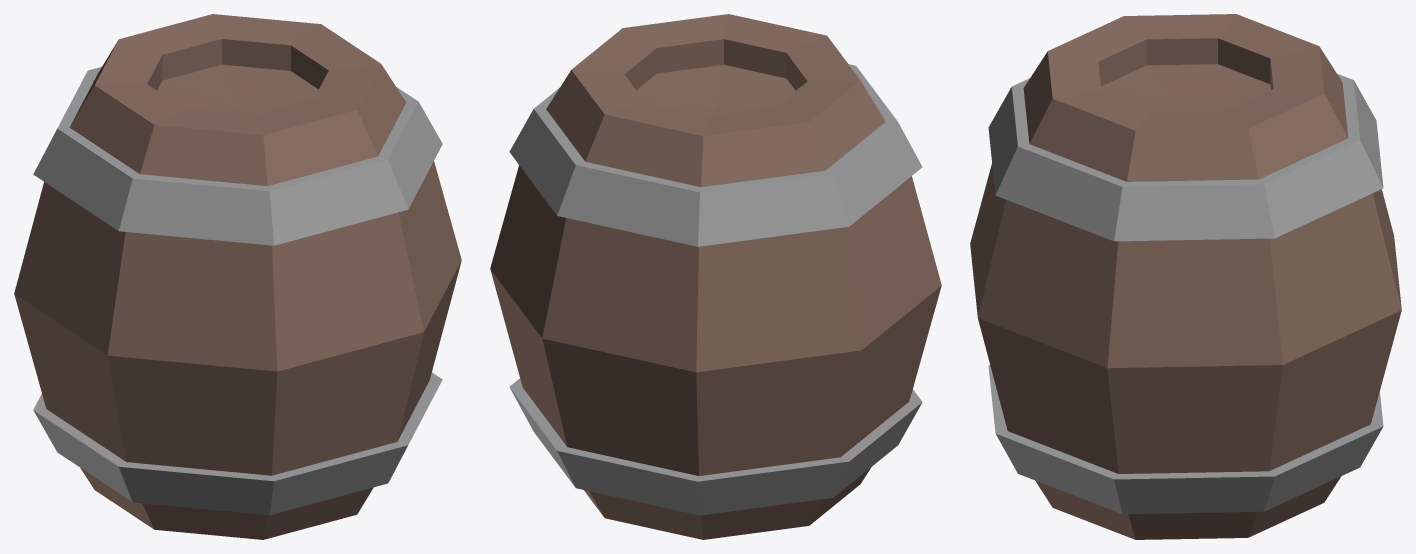
Rendered from barrel.glb.
3 views of the same model, side by side, from view 1: azimuth 30°, elevation 25°; view 2: azimuth 150°, elevation 25°; view 3: azimuth 270°, elevation 25° (orthographic).
Parts seen in each view (by area): view 1: rock02_Mesh_007_Base_0.4578; view 2: rock02_Mesh_007_Base_0.4578; view 3: rock02_Mesh_007_Base_0.4578.
Boxes of the visible parts, <box> form: rock02_Mesh_007_Base_0.4578: <box>14,14,461,539</box>; rock02_Mesh_007_Base_0.4578: <box>490,14,941,539</box>; rock02_Mesh_007_Base_0.4578: <box>970,14,1401,539</box>.
Bounding box in the file's own units: 0.69 × 0.7215 × 0.69.
Materials: 1 (1 with a texture image).
